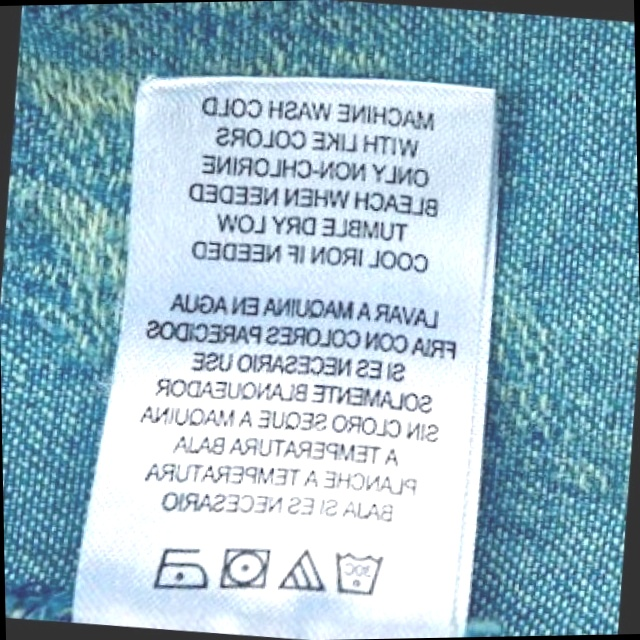30C: (327, 539, 387, 600)
iron_low: (151, 538, 215, 597)
non_chlorine_bleach: (279, 545, 327, 596)
tumble_dry_low: (209, 539, 275, 598)
